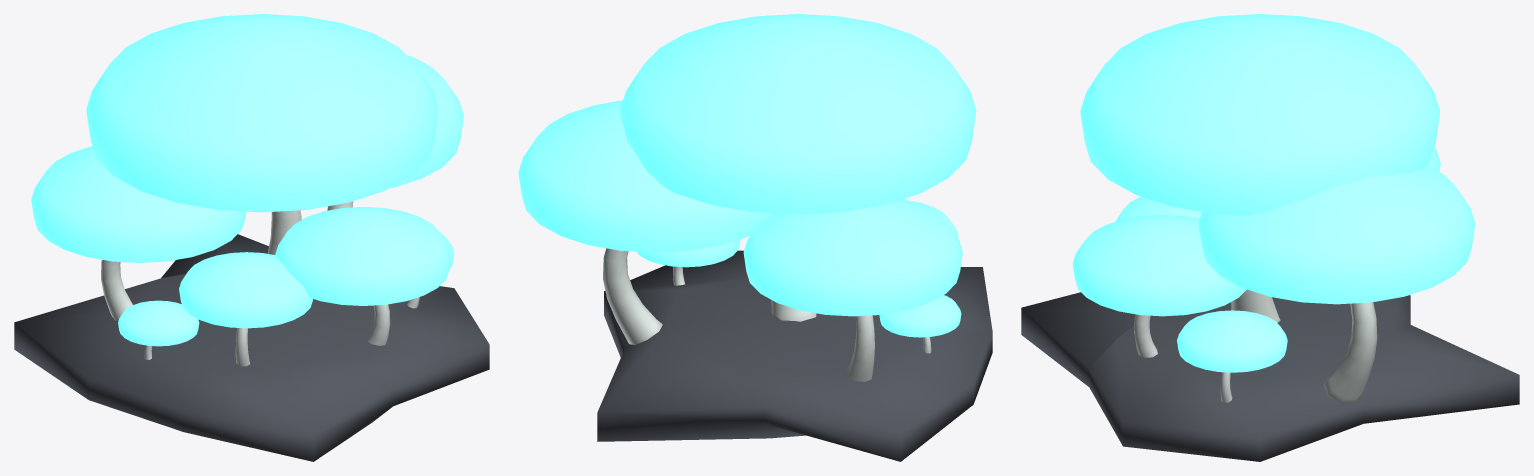
Rendered from cave_bioluminescent_mushroom.glb.
3 views of the same model, side by side, from view 1: azimuth 30°, elevation 25°; view 2: azimuth 150°, elevation 25°; view 3: azimuth 270°, elevation 25° (orthographic). The views are drawn at different scales.
Visible parts, largest first — view 1: Flora_Cave_Mushroom; view 2: Flora_Cave_Mushroom; view 3: Flora_Cave_Mushroom.
Boxes of the visible parts, x1,y1,x2,y2 form: Flora_Cave_Mushroom: (14, 14, 489, 461); Flora_Cave_Mushroom: (518, 14, 992, 461); Flora_Cave_Mushroom: (1021, 14, 1519, 461).
Size of the model in its own units: 1.37 by 1.13 by 1.43.
